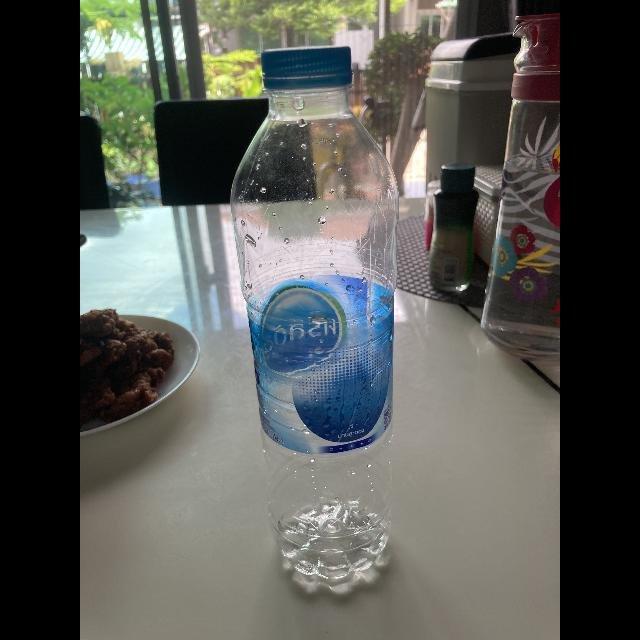plastic_bottle: (226, 42, 400, 594)
plastic_bottle_cap: (259, 41, 353, 90)
